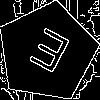E: (22, 27, 73, 83)
